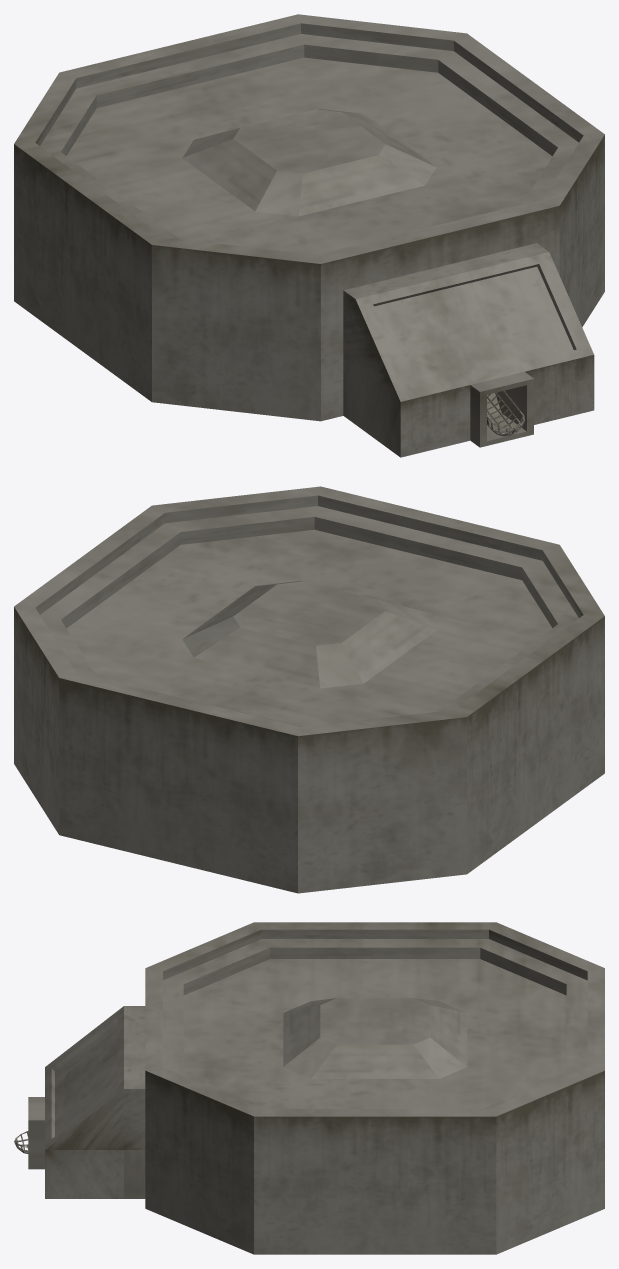
File: machine_base.glb
The picture shows the model from 3 angles, top to bottom: view 1: azimuth 30°, elevation 25°; view 2: azimuth 150°, elevation 25°; view 3: azimuth 270°, elevation 25°; orthographic projection. The views are drawn at different scales.
Parts seen in each view (by area): view 1: Base, Console, Rail; view 2: Base; view 3: Base, Console.
Part boxes in pixels (x1,y1,x2,y2): Base: (14, 14, 604, 421); Console: (343, 243, 594, 457); Rail: (487, 390, 524, 436); Base: (14, 486, 604, 893); Base: (145, 922, 604, 1254); Console: (28, 1006, 145, 1198).
Size of the model in its own units: 0.3155 by 0.1047 by 0.4057.
Materials: 1 (1 with a texture image).
